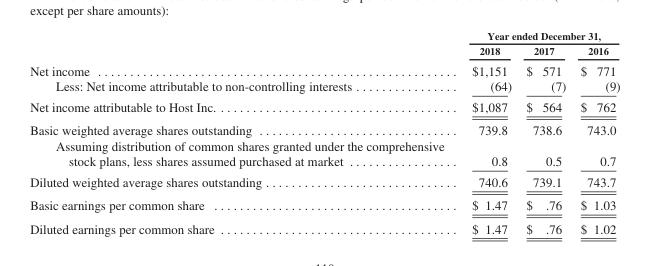table: (29, 29, 619, 235)
table column: (29, 29, 457, 235), (457, 29, 518, 235), (518, 29, 572, 235), (572, 29, 619, 235)
table column header: (29, 29, 619, 59)
table row: (29, 137, 619, 171), (29, 193, 619, 216), (29, 96, 619, 118), (29, 171, 619, 193), (29, 59, 619, 78), (29, 118, 619, 137), (29, 216, 619, 235), (29, 78, 619, 96), (29, 42, 619, 59), (29, 29, 619, 42)
table spanning cell: (457, 29, 619, 42)
